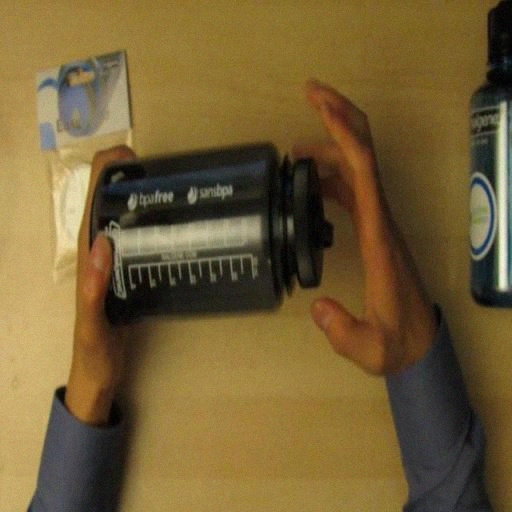bottle: (88, 144, 333, 326)
